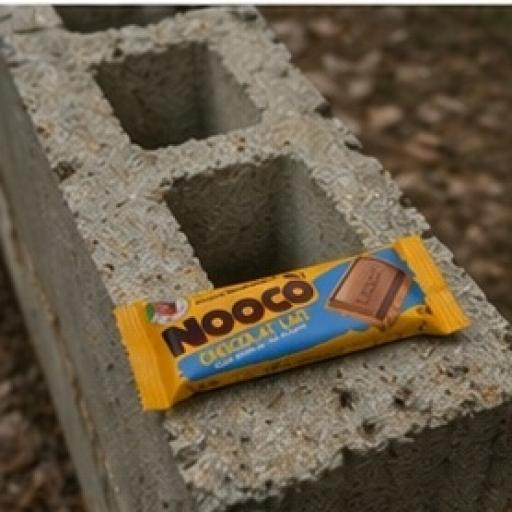biscuit-detection: (98, 228, 492, 432)
